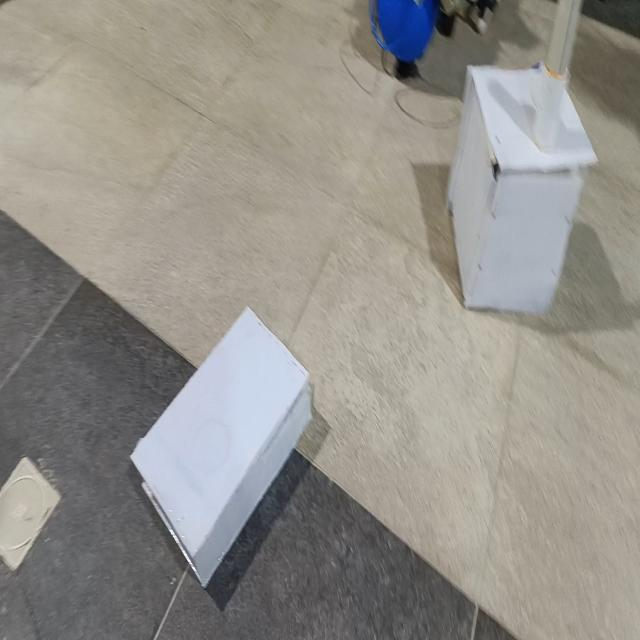Cube: (445, 59, 599, 316)
Cuboid: (129, 302, 313, 588)
